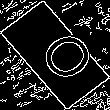O_SW: (19, 22, 91, 88)
